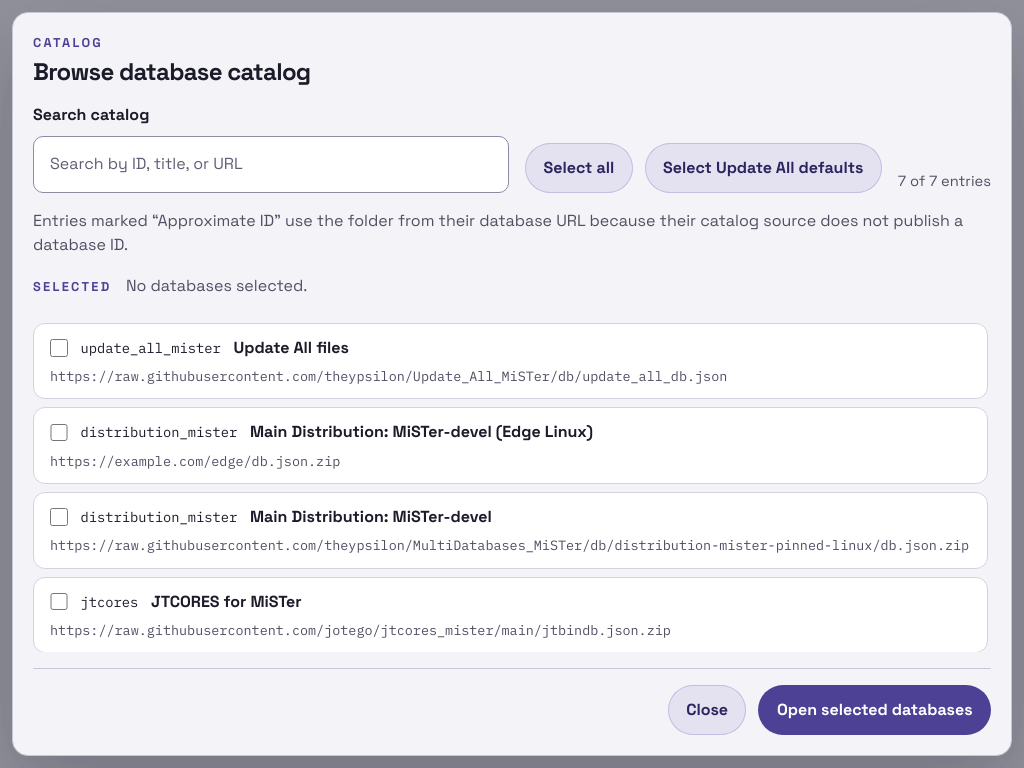
Scenario: the catalog picker › while searching, select all selects and unselects only the databases shown
The width and height of the screenshot is (1024, 768).
Step 1. Click the checkbox named "JTCORES for MiSTer (jtcores)" → {"x": 59, "y": 602}, box [50,593,68,610]
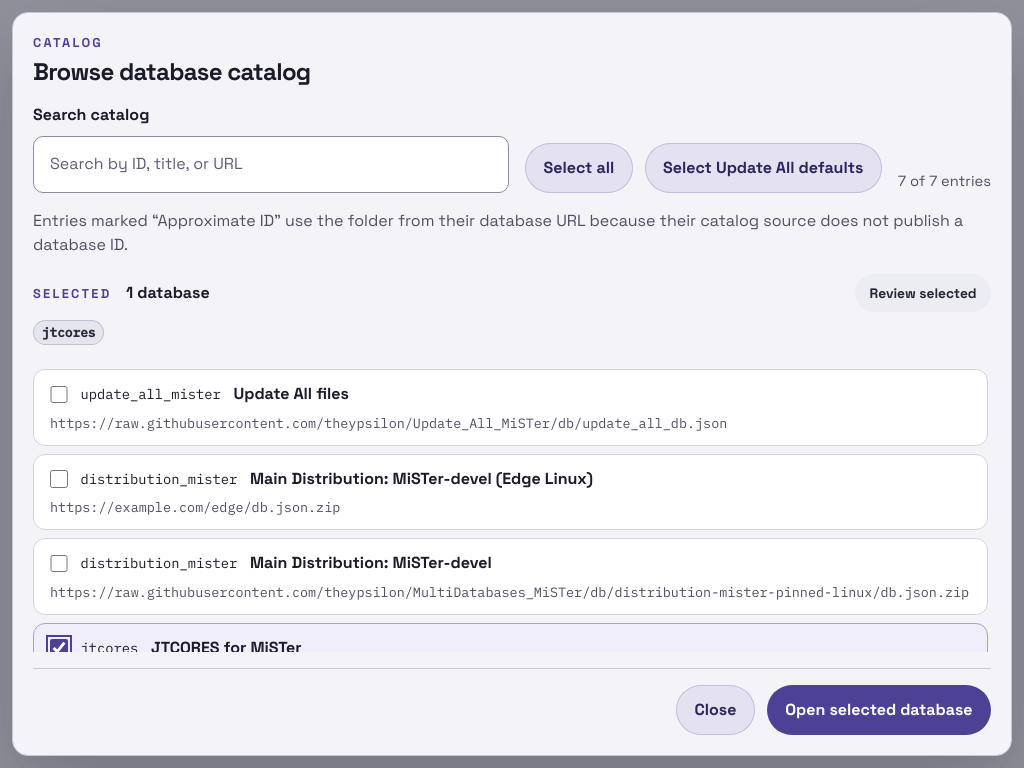
Step 2. Type "distribution" into the search field labelled "Search catalog" → {"x": 271, "y": 164}, box [33,136,509,193]
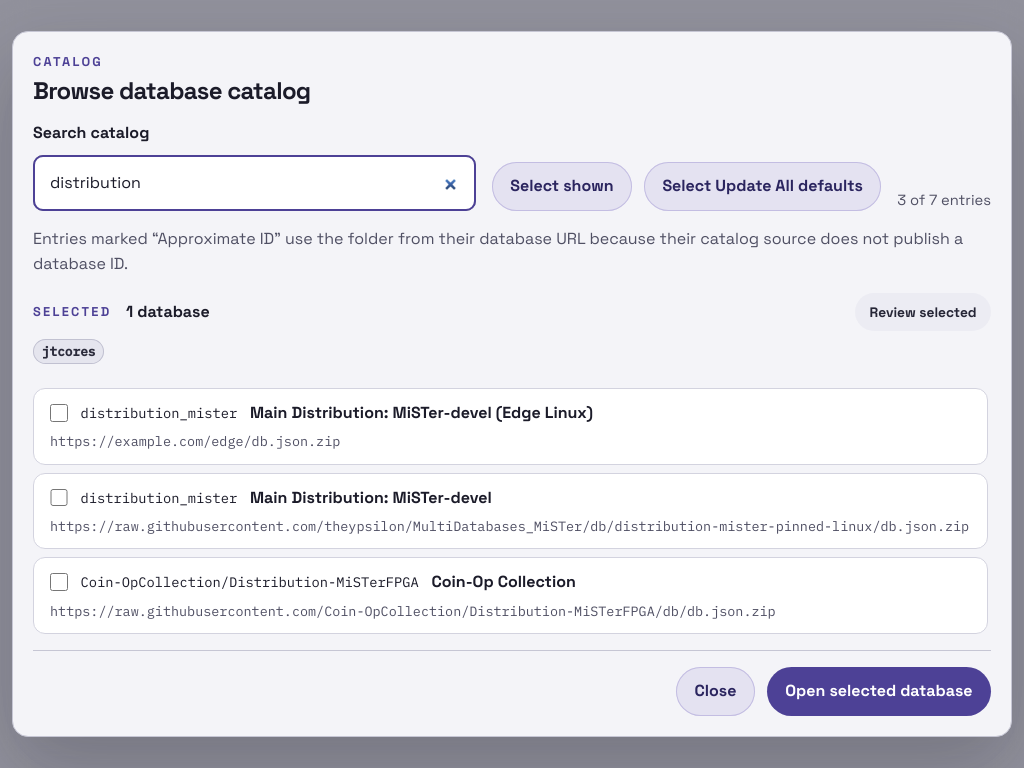
Result: the dialog "Browse database catalog" shows "3 of 7 entries" at [897,191,991,209]
Step 3. Click the button "Select shown" → {"x": 562, "y": 186}, box [492,162,632,211]
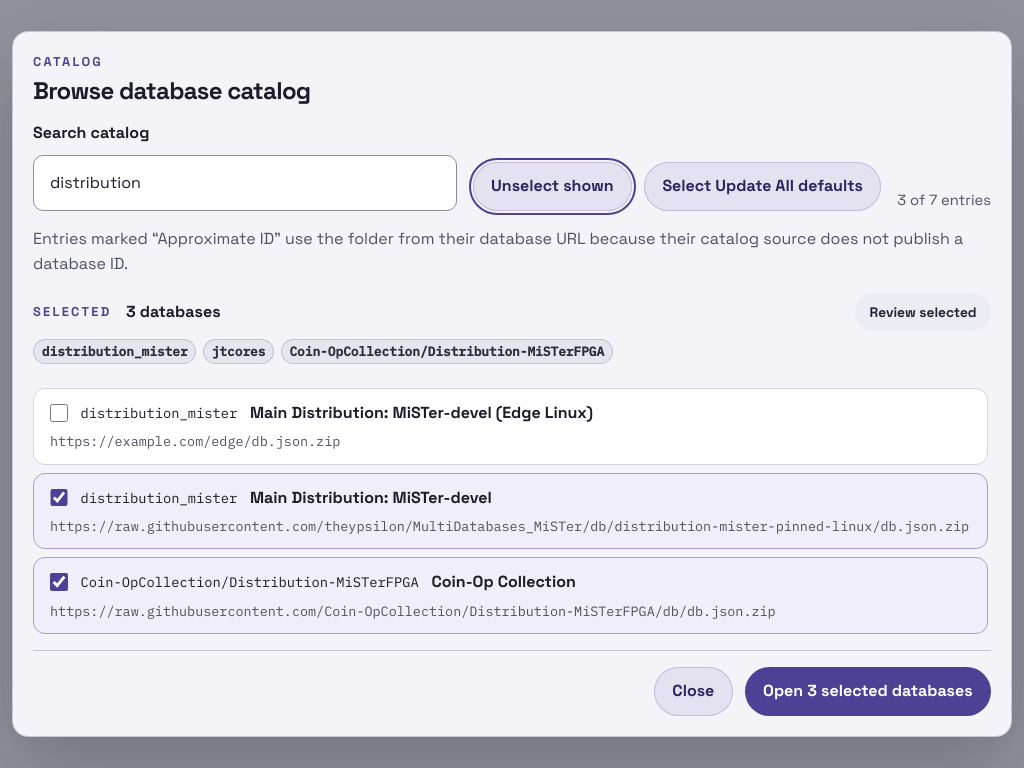
Step 4. Click the button "Unselect shown" → {"x": 552, "y": 186}, box [473,162,632,211]
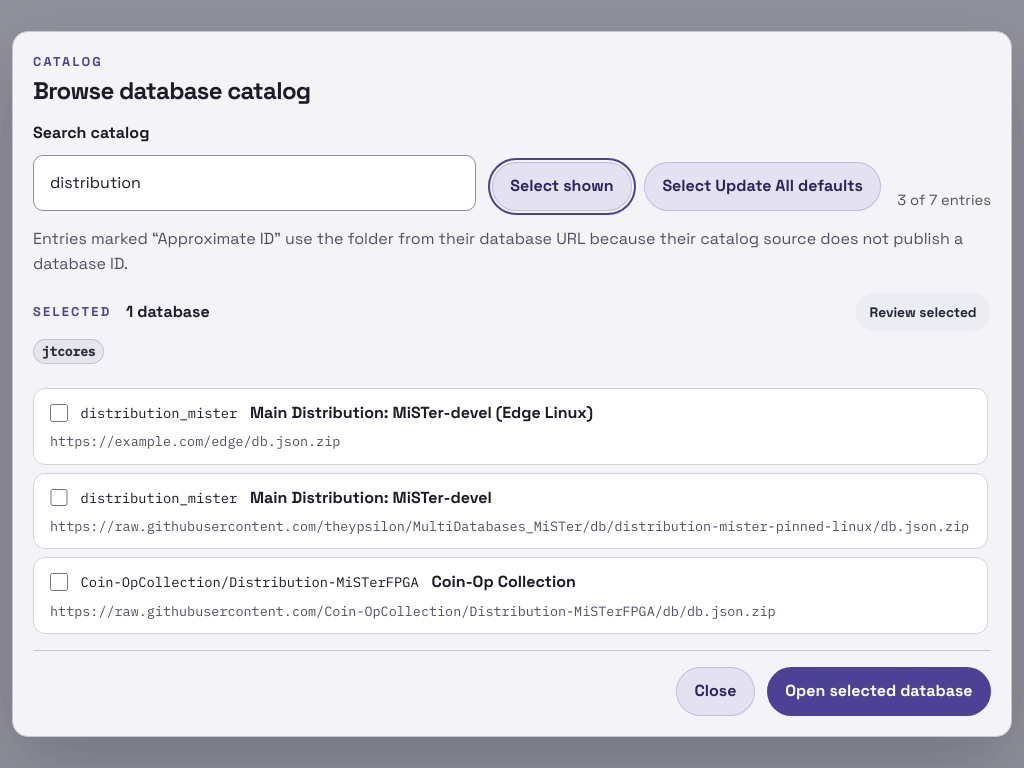
Step 5. Type " nothing" into the search field labelled "Search catalog" → {"x": 254, "y": 183}, box [33,155,476,211]
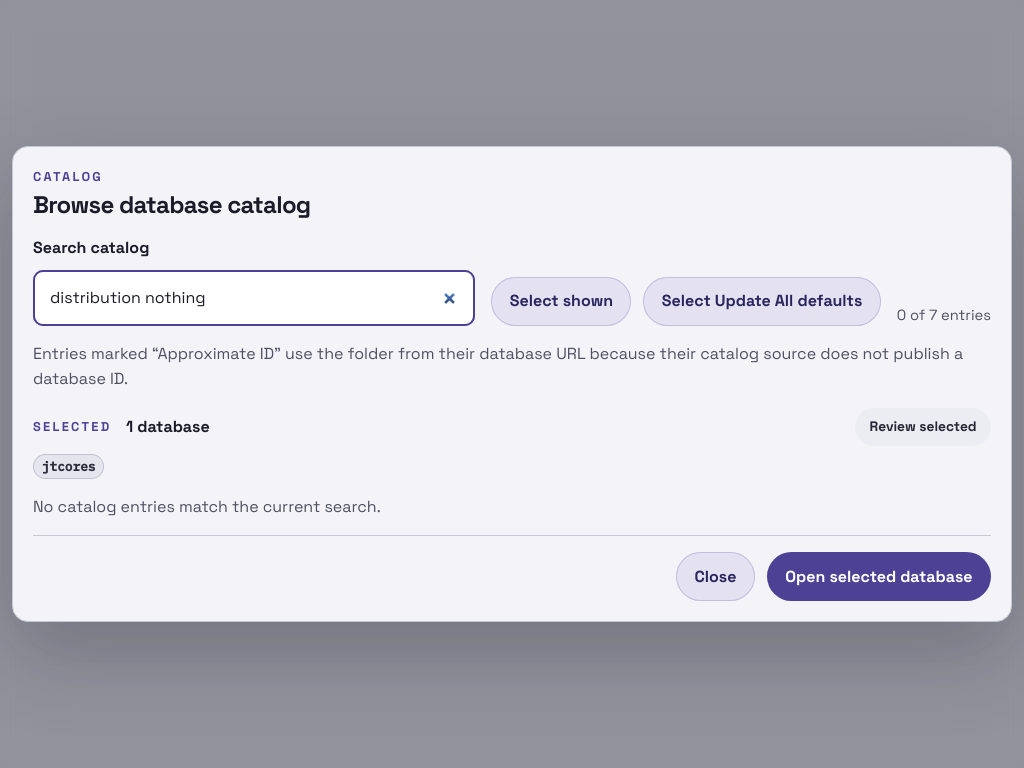
Result: the dialog "Browse database catalog" shows "0 of 7 entries" at [897,306,991,324]
Result: the button "Select shown" is disabled at [491,276,632,326]
Step 6. Clear the search field labelled "Search catalog" → {"x": 254, "y": 298}, box [33,270,475,326]
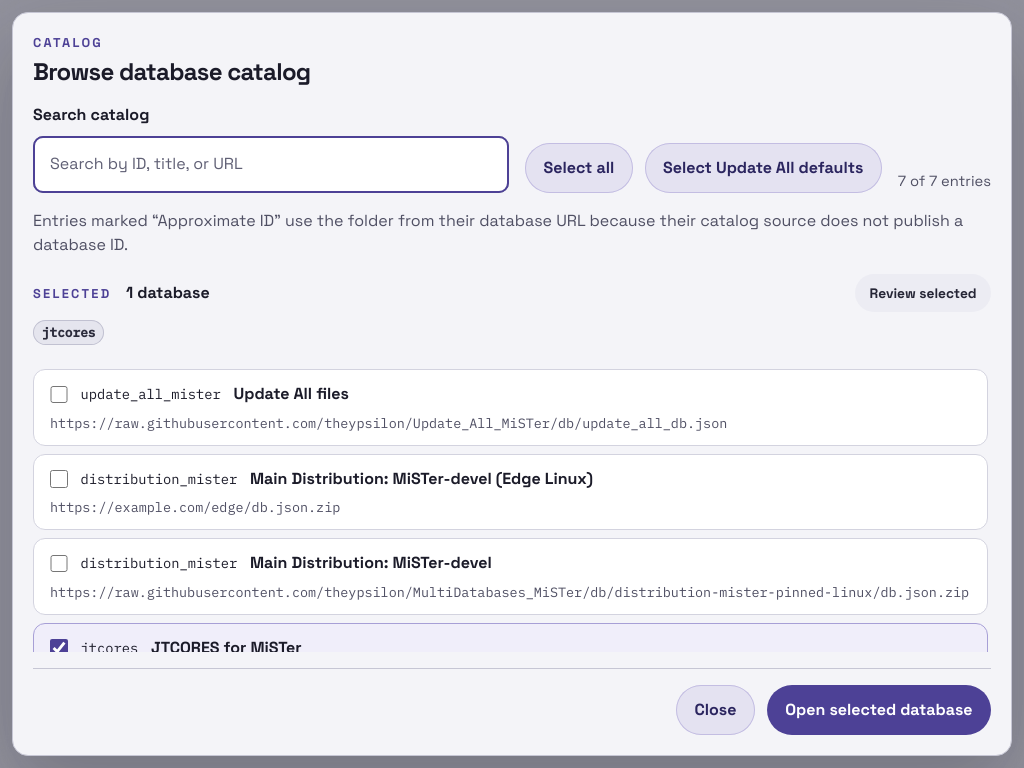
Result: the dialog "Browse database catalog" shows "7 of 7 entries" at [898,172,991,190]
Result: the button "Select all" is enabled at [525,143,633,193]
